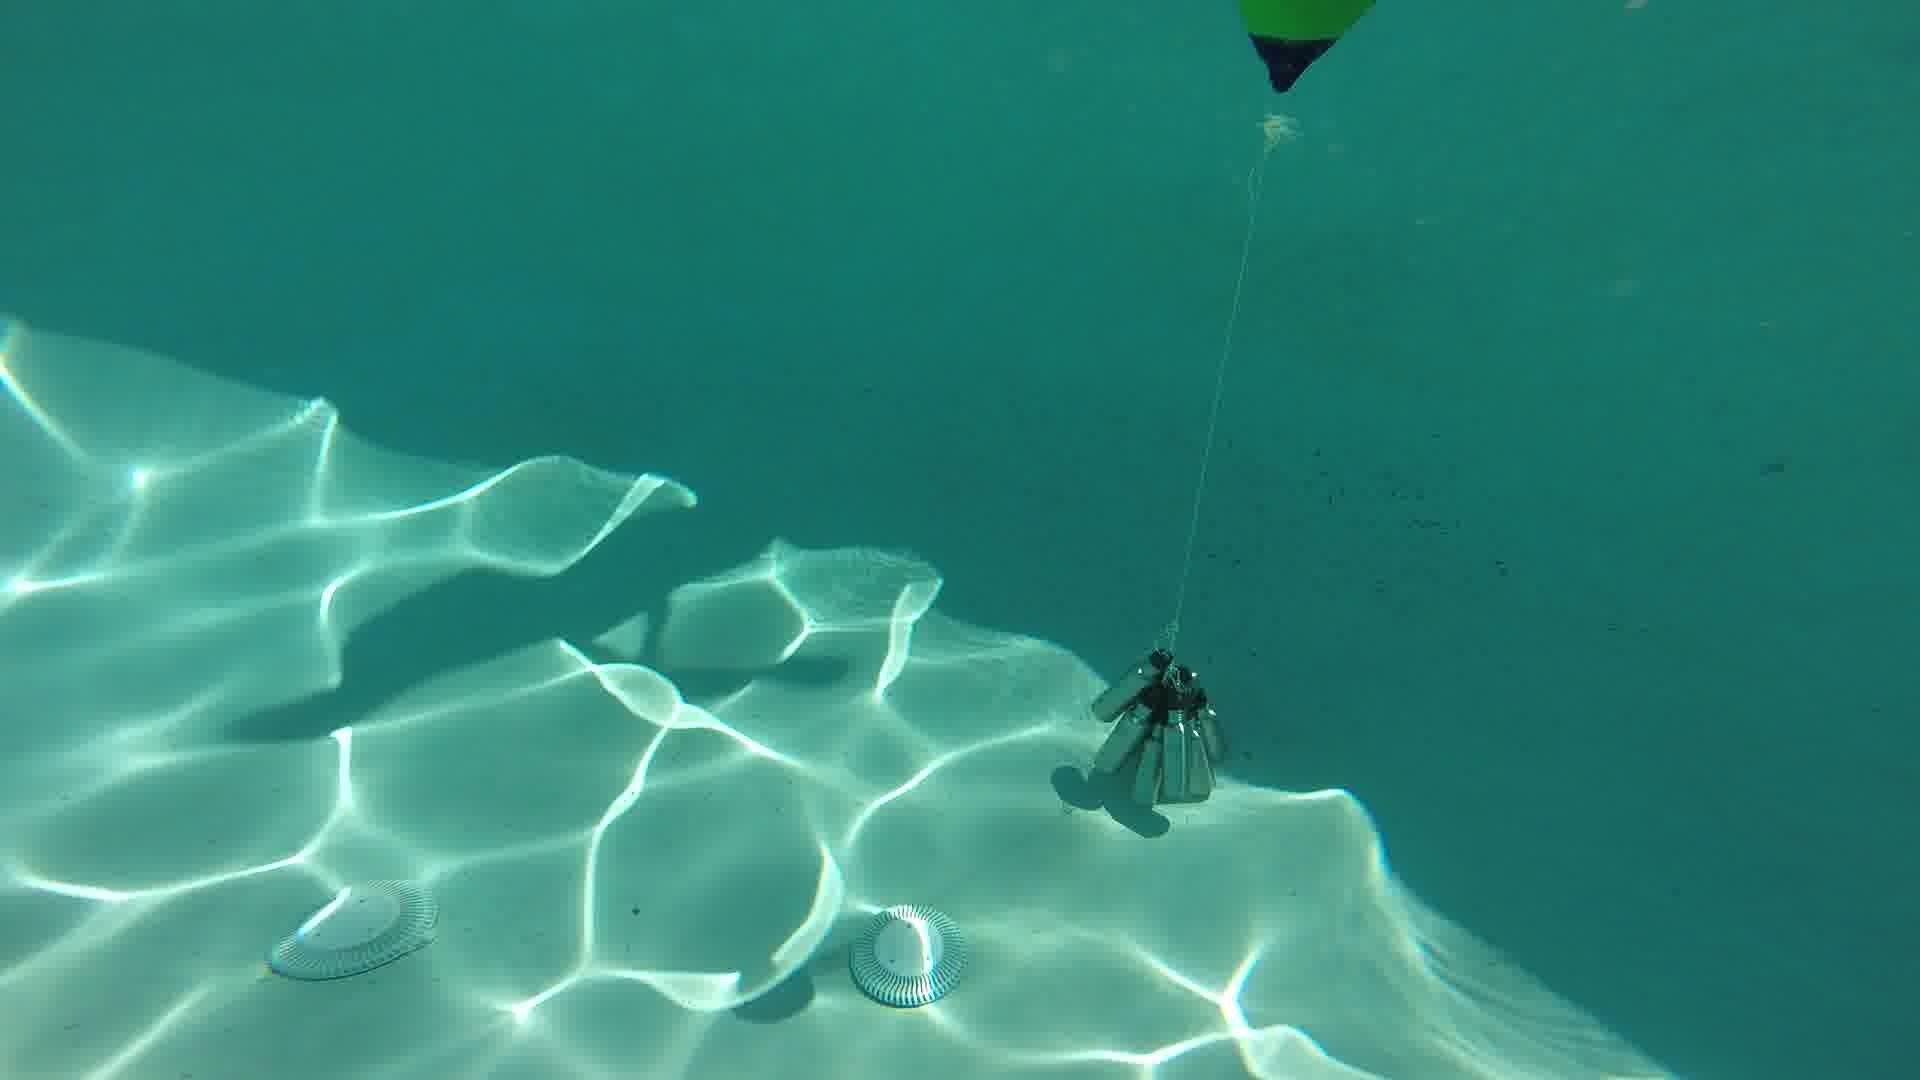yellow_buoy: (1236, 3, 1377, 146)
